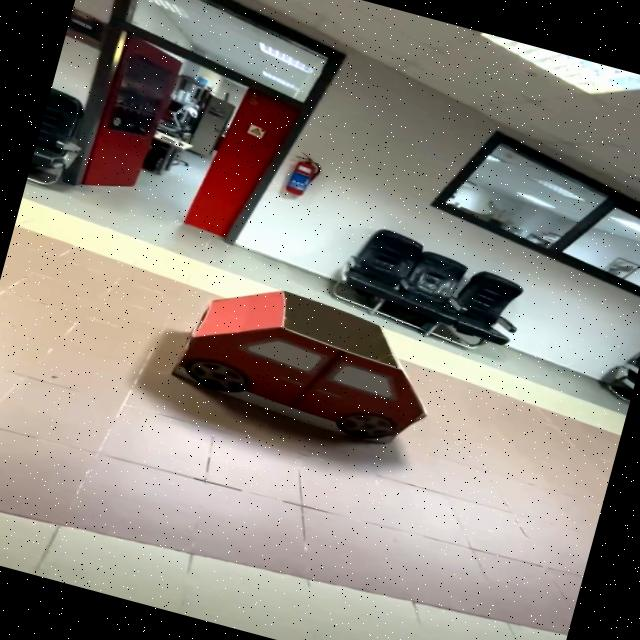red_car: (131, 252, 488, 472)
